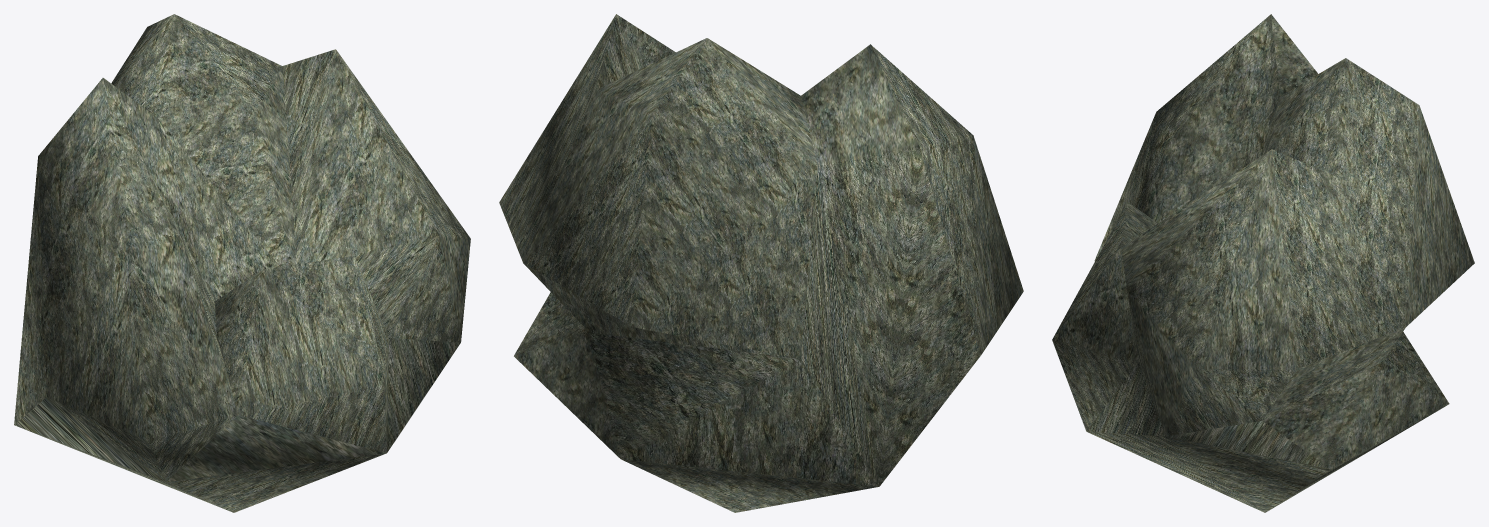
File: poi_all_lair_rocks_large_l3.fbx
3 renders of one model, left to right at view 1: azimuth 30°, elevation 25°; view 2: azimuth 150°, elevation 25°; view 3: azimuth 270°, elevation 25°, orthographic. The views are drawn at different scales.
Visible parts, largest first — view 1: mesh_node; view 2: mesh_node; view 3: mesh_node.
Boxes of the visible parts, <box> form: mesh_node: <box>14,14,470,512</box>; mesh_node: <box>499,14,1023,512</box>; mesh_node: <box>1052,14,1474,512</box>.
Size of the model in its own units: 5.09 by 5.63 by 4.82.
Materials: 1 (1 with a texture image).
